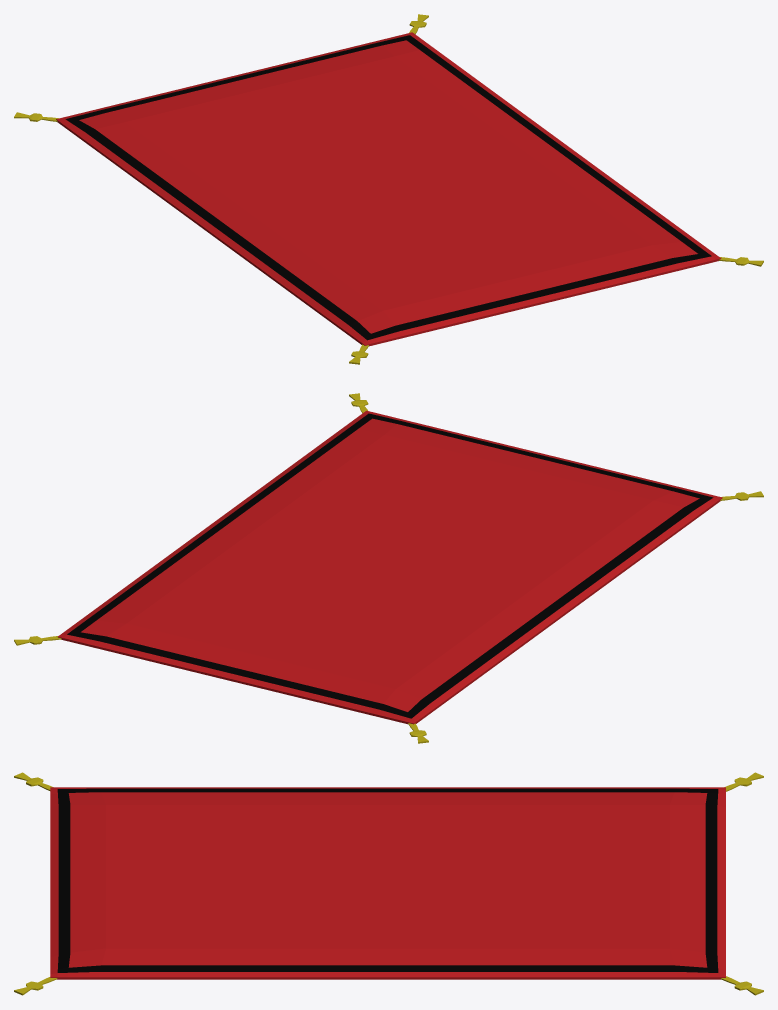
The model's file is Carpet2x3.glb.
3 renders of one model, top to bottom at view 1: azimuth 30°, elevation 25°; view 2: azimuth 150°, elevation 25°; view 3: azimuth 270°, elevation 25°, orthographic. The views are drawn at different scales.
Visible parts, largest first — view 1: Cube; view 2: Cube; view 3: Cube.
Boxes of the visible parts, x1,y1,x2,y2 form: Cube: [14, 14, 763, 364]; Cube: [14, 393, 763, 743]; Cube: [14, 772, 763, 995].
Bounding box in the file's own units: 2.33 × 0.0426 × 3.33.
